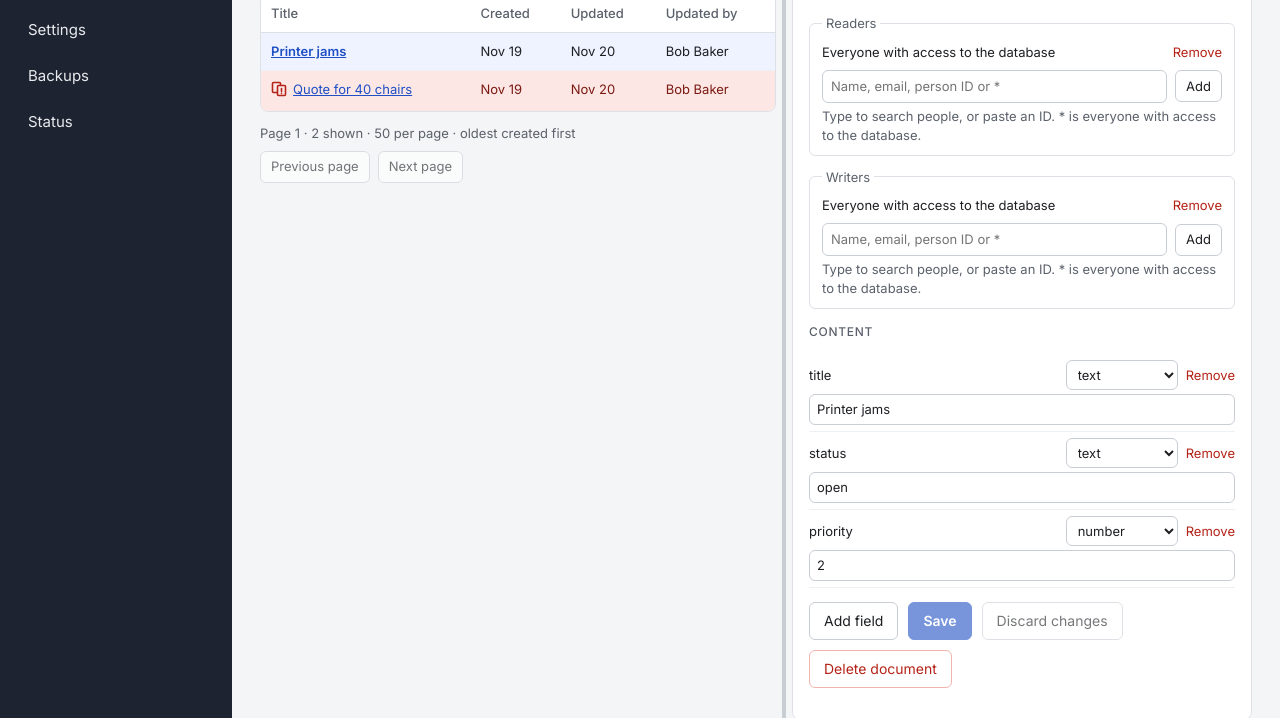
Test: the inspector › asks before unsaved edits are dropped for another document
(page scrolled)
Type "!" into the field named "Value of status" at (1022, 487), box [809, 472, 1235, 503]
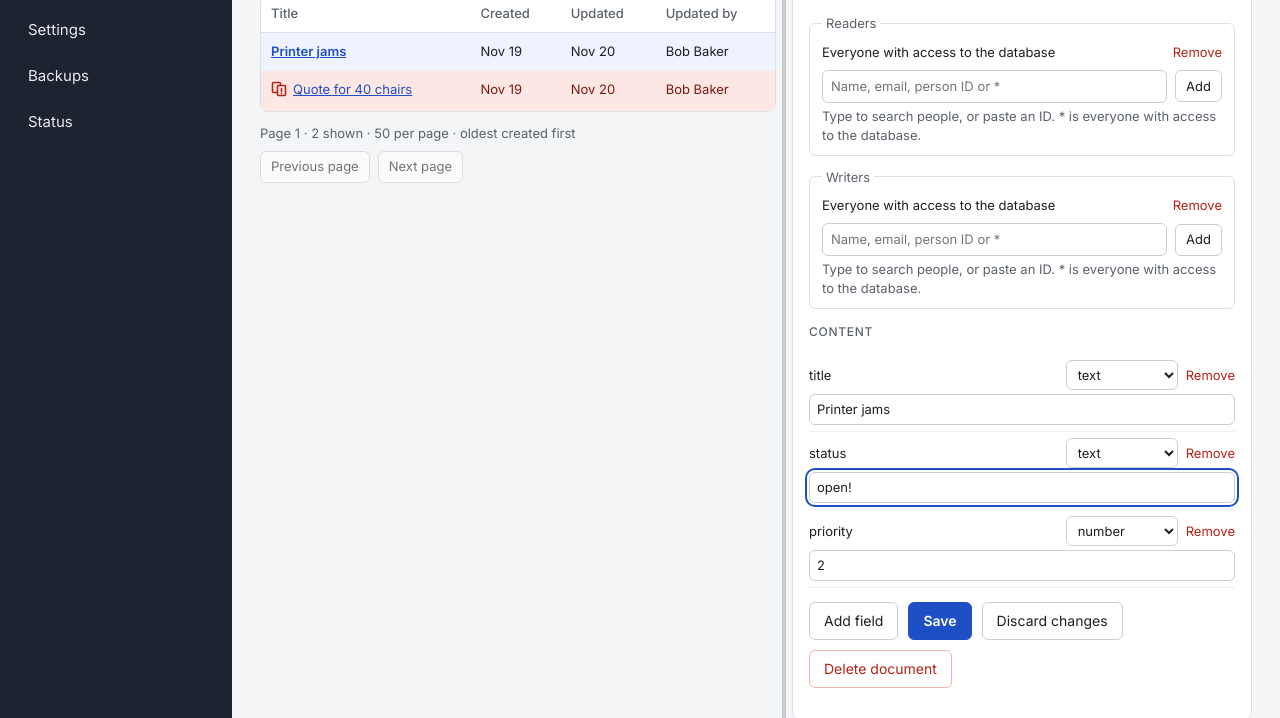
Click the link "Quote for 40 chairs" at (353, 89), box [293, 80, 412, 98]
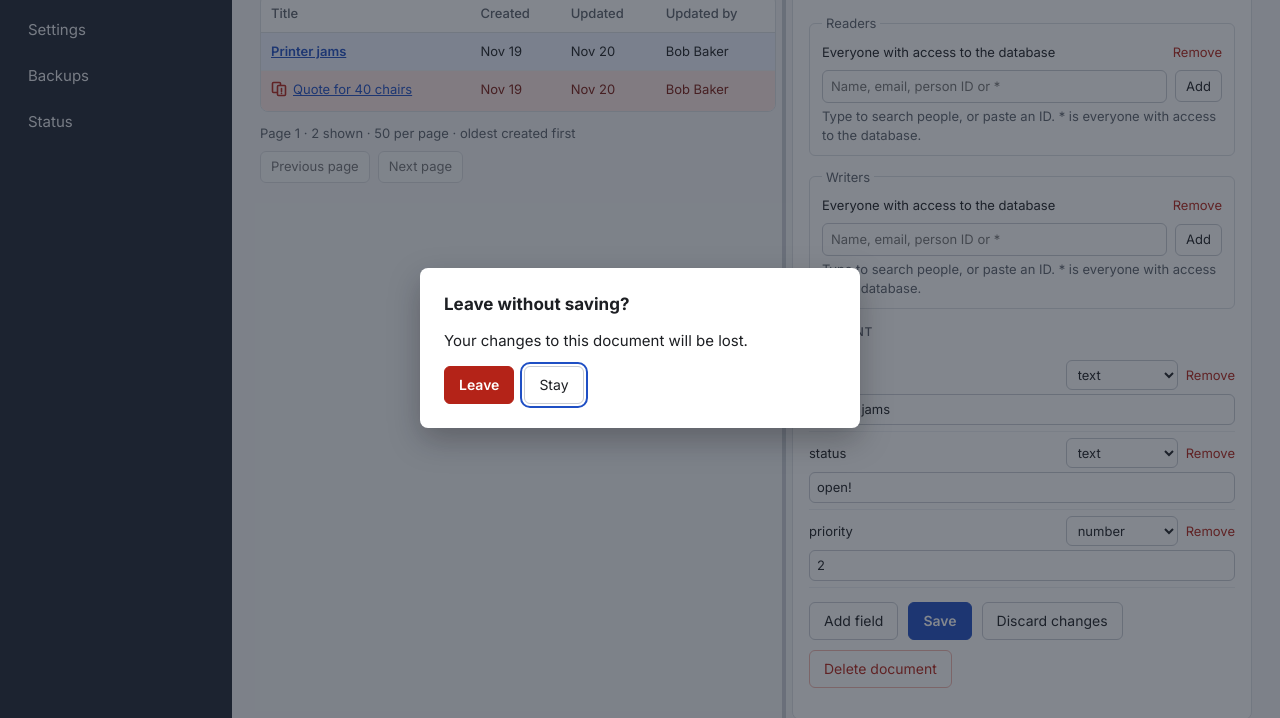
Result: the dialog "Leave without saving?" shows "Your changes to this document will be lost." at [420, 268, 860, 428]
Click the button "Stay" at (554, 385), box [524, 366, 584, 404]
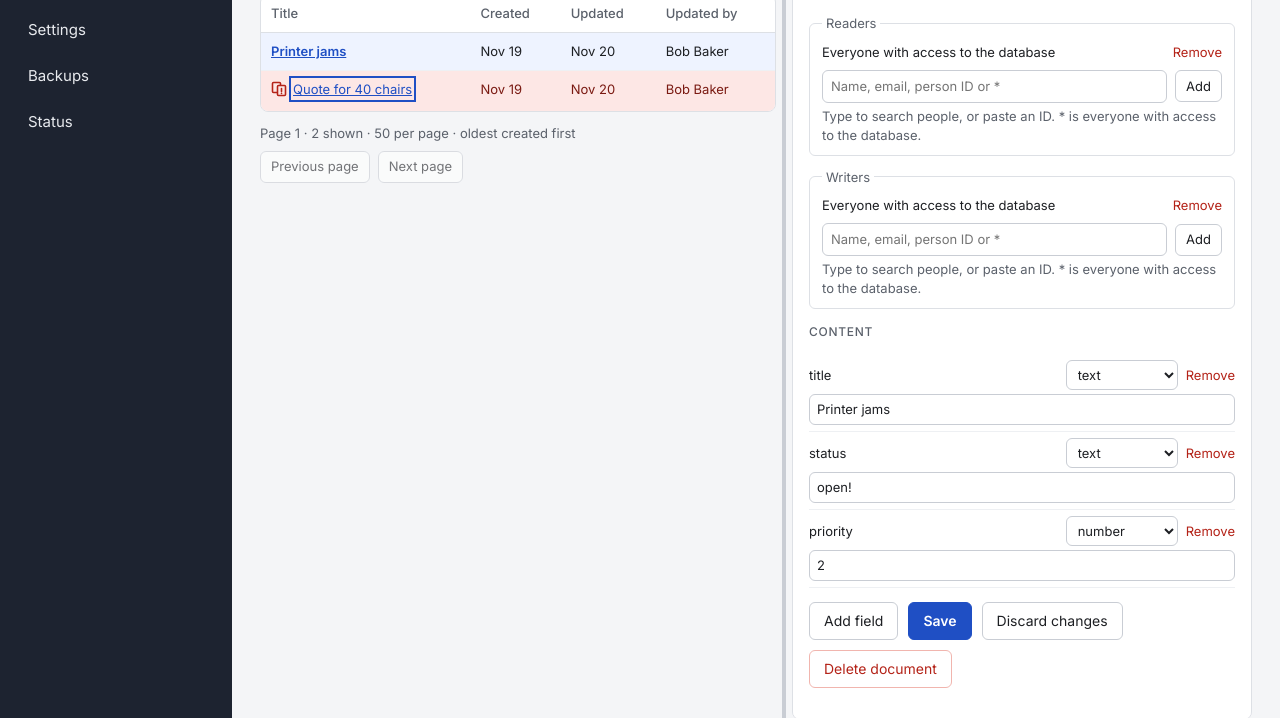
Result: the field named "Value of status" holds "open!" at [809, 472, 1235, 503]
Click the link "Quote for 40 chairs" at (353, 89), box [293, 80, 412, 98]
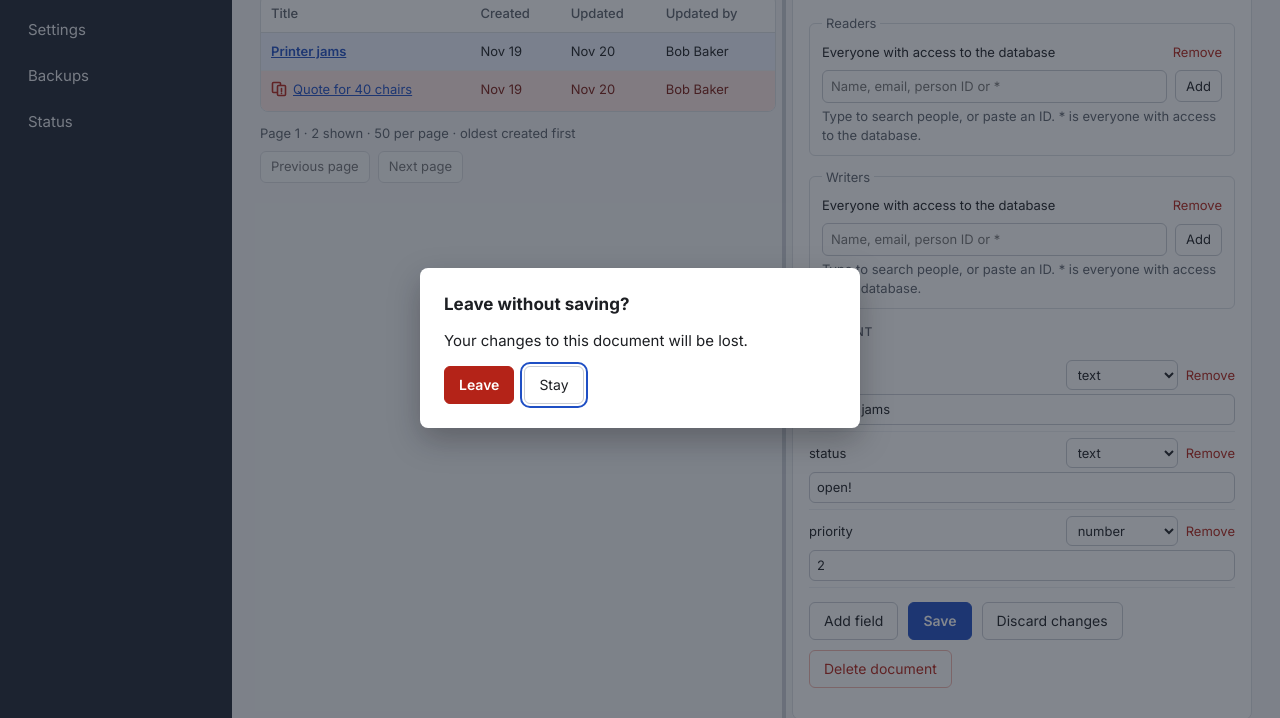
Click the button "Leave" at (479, 385), box [444, 366, 514, 404]
(page scrolled)
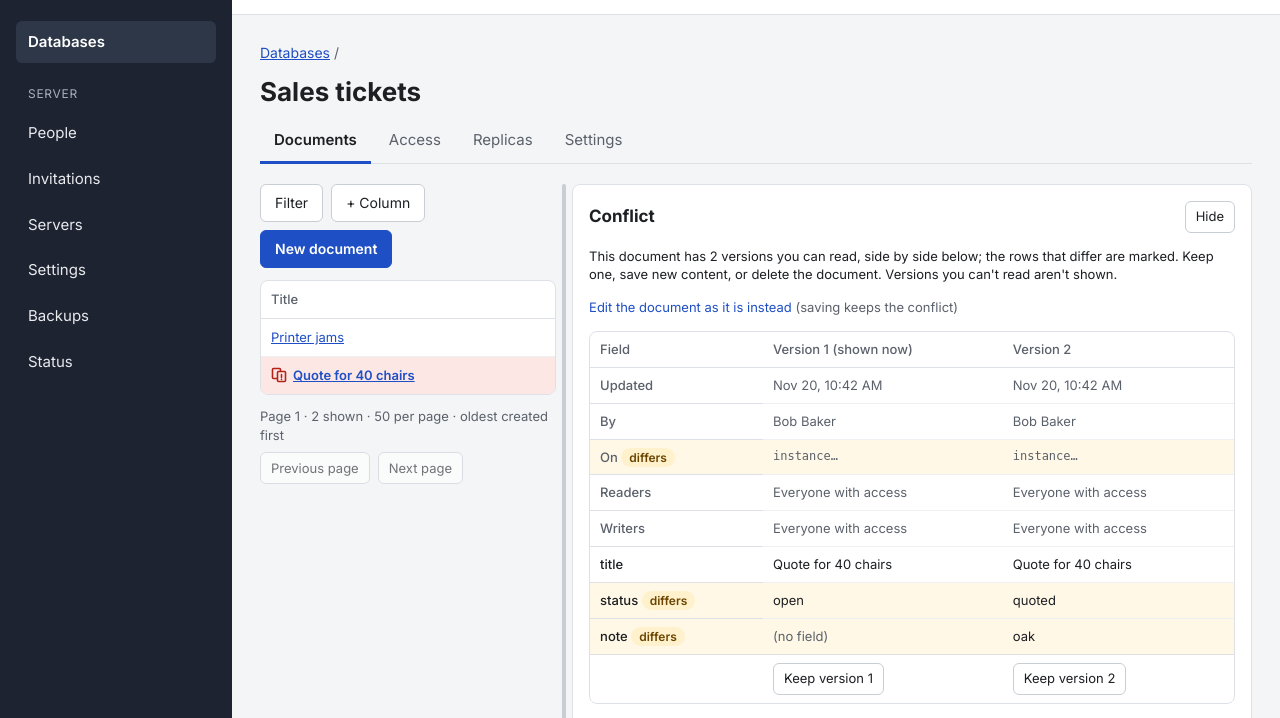
Result: the heading "Conflict" is shown at [589, 204, 655, 229]
